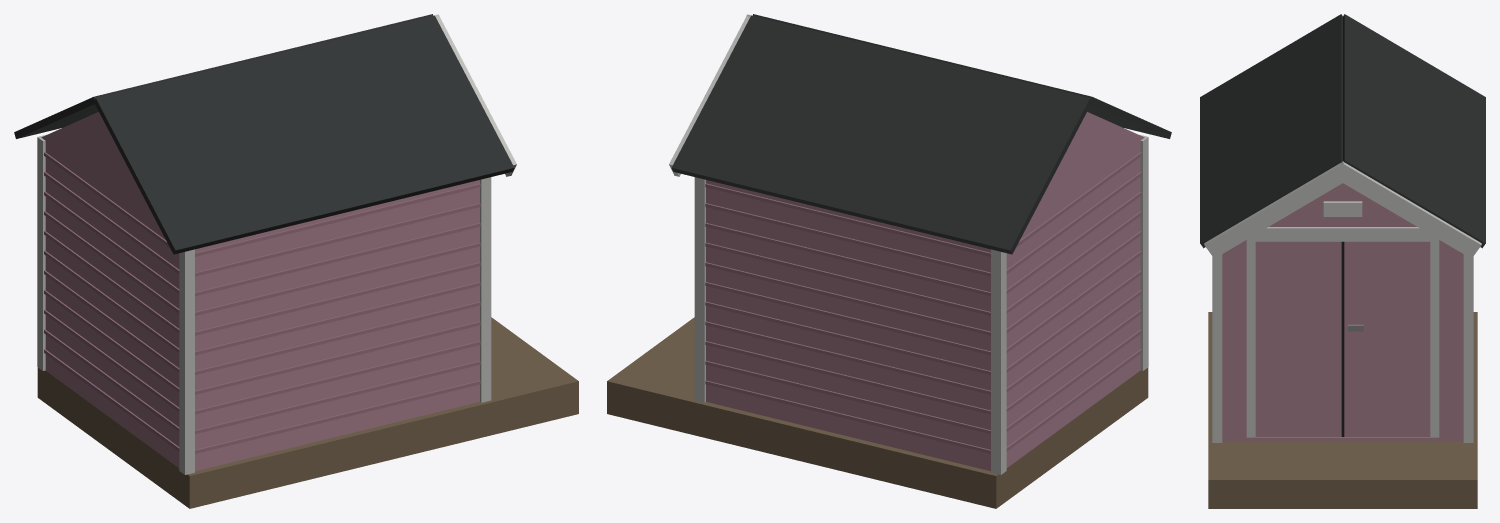
The model's file is SM_Prop_coast_beachhut_5.glb.
3 views of the same model, side by side, from view 1: azimuth 30°, elevation 25°; view 2: azimuth 150°, elevation 25°; view 3: azimuth 270°, elevation 25° (orthographic). The views are drawn at different scales.
Parts seen in each view (by area): view 1: SM_Prop_coast_beachhut_5; view 2: SM_Prop_coast_beachhut_5; view 3: SM_Prop_coast_beachhut_5.
Part boxes in pixels (box(x1,y1,x2,y2)): SM_Prop_coast_beachhut_5: box(14, 14, 578, 508); SM_Prop_coast_beachhut_5: box(607, 14, 1171, 508); SM_Prop_coast_beachhut_5: box(1200, 14, 1485, 508).
Bounding box in the file's own units: 3.25 × 2.74 × 2.23.
